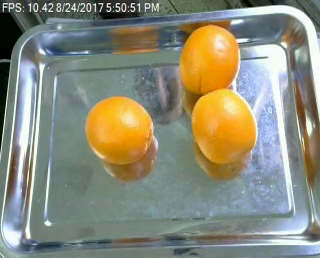Orange: (191, 88, 257, 164), (84, 97, 153, 164), (179, 23, 241, 94)
